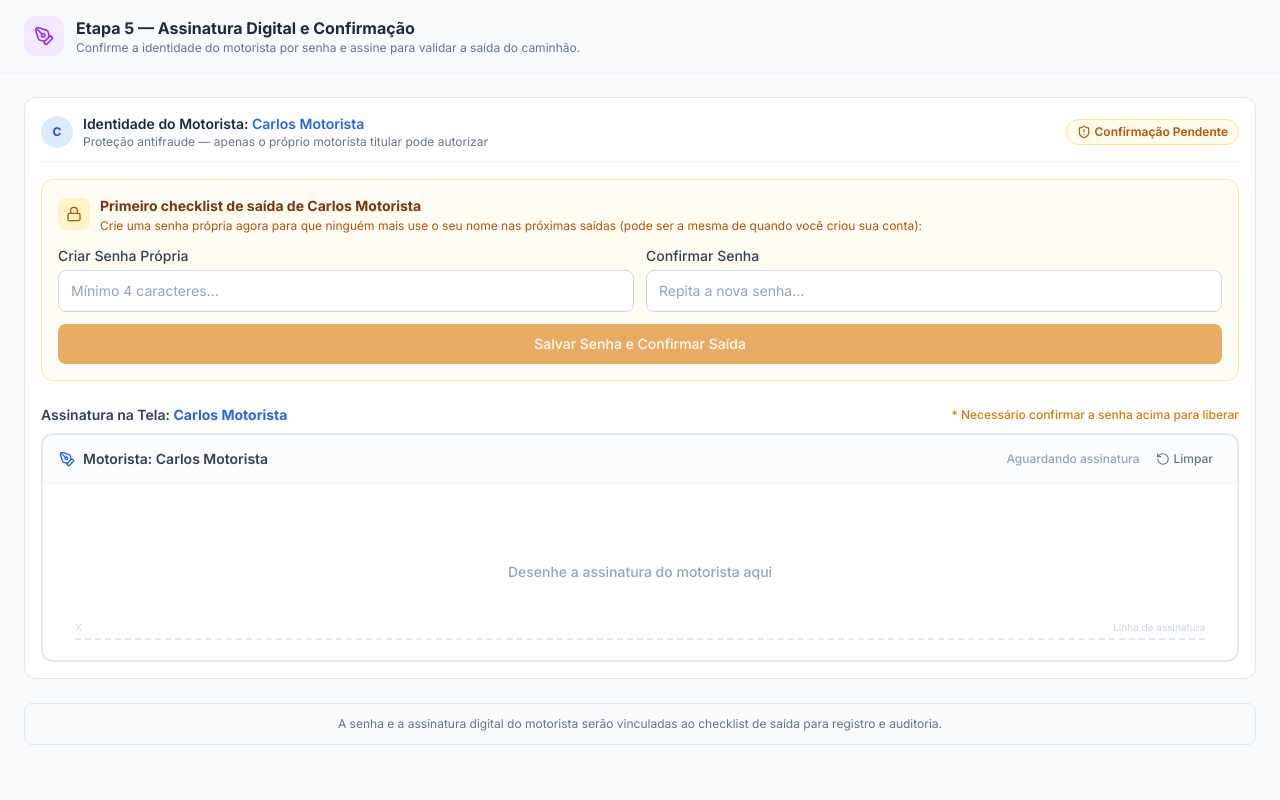
Test: Step10_Signature › allows creating password for first-time driver and confirms identity
Expected: the text "Primeiro checklist de saída de Carlos Motorista" is shown, [100,197,421,214]
Type "123456" into the password field labelled "Criar Senha Própria". click: (346, 291)
box: [58,270,634,312]
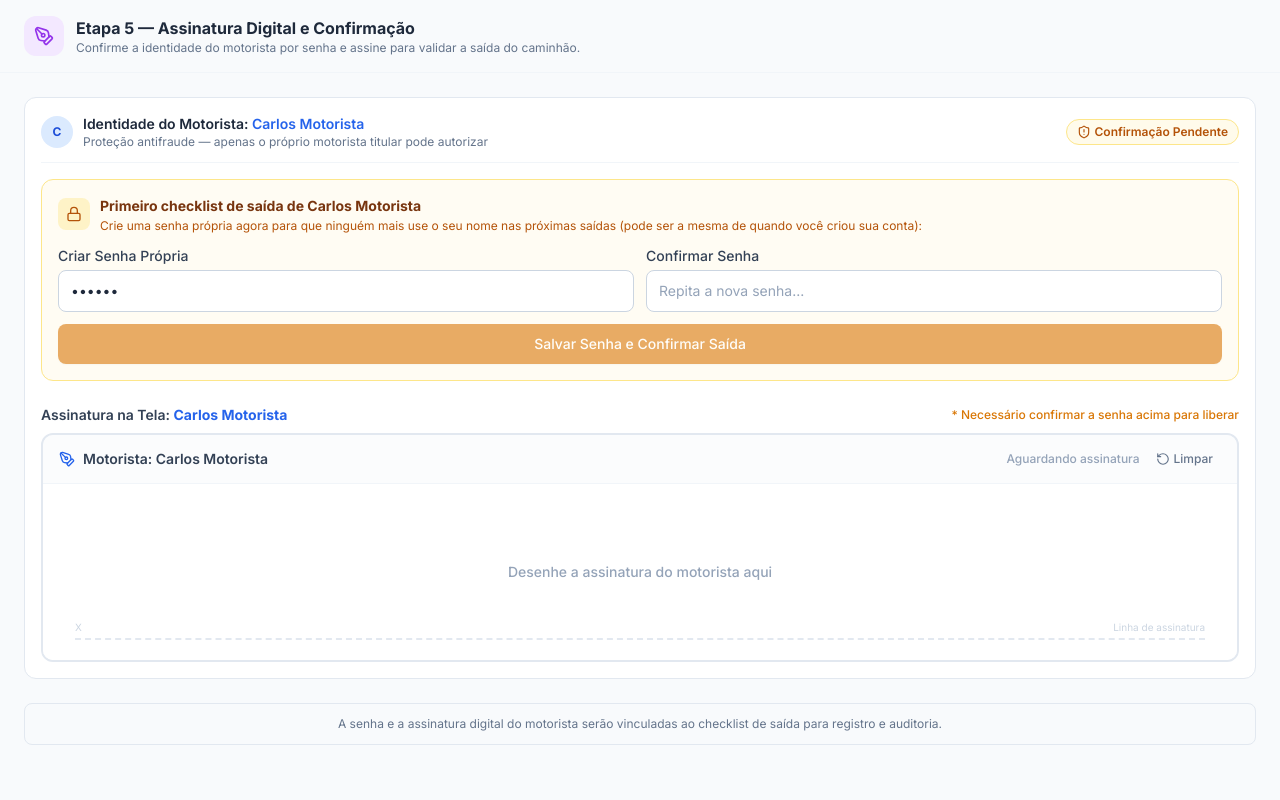
Type "123456" into the password field labelled "Confirmar Senha". click: (934, 291)
box: [646,270,1222,312]
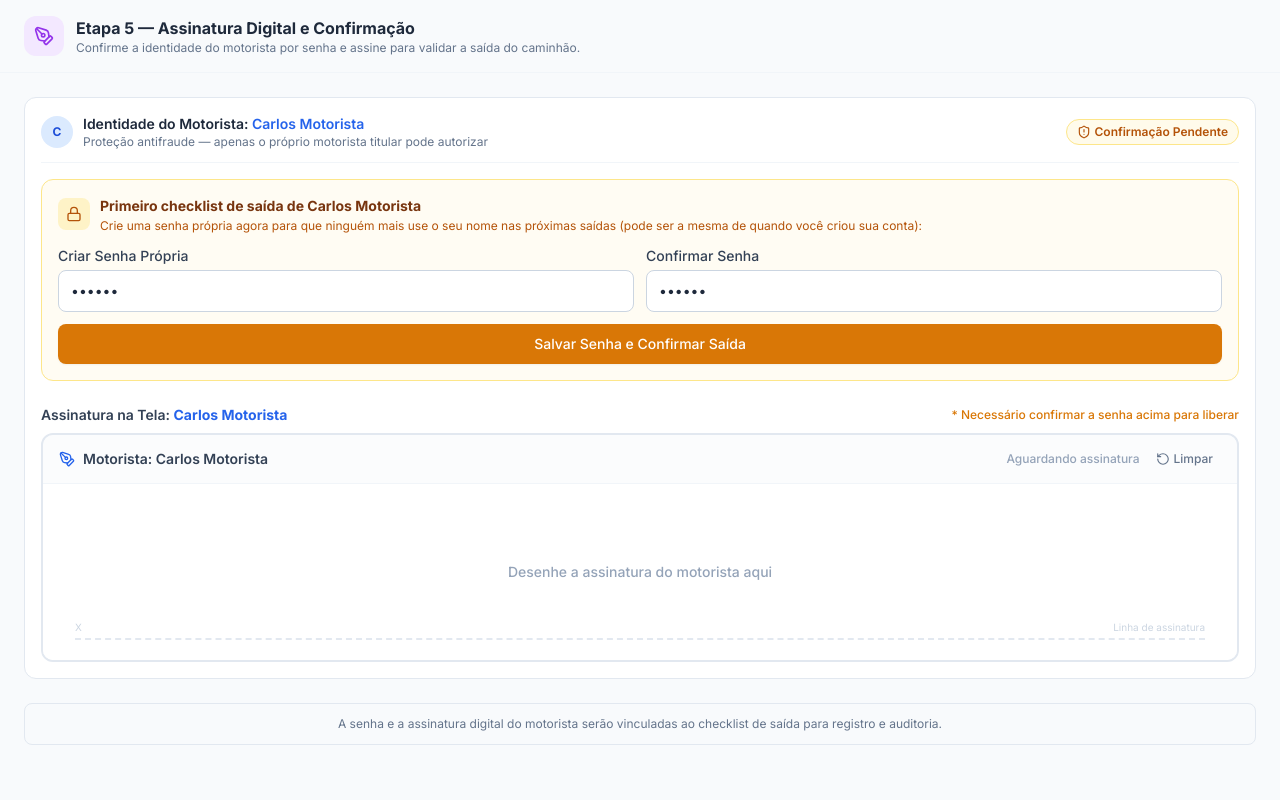
Click the button "Salvar Senha e Confirmar Saída". click: (640, 344)
box: [58,324,1222,364]
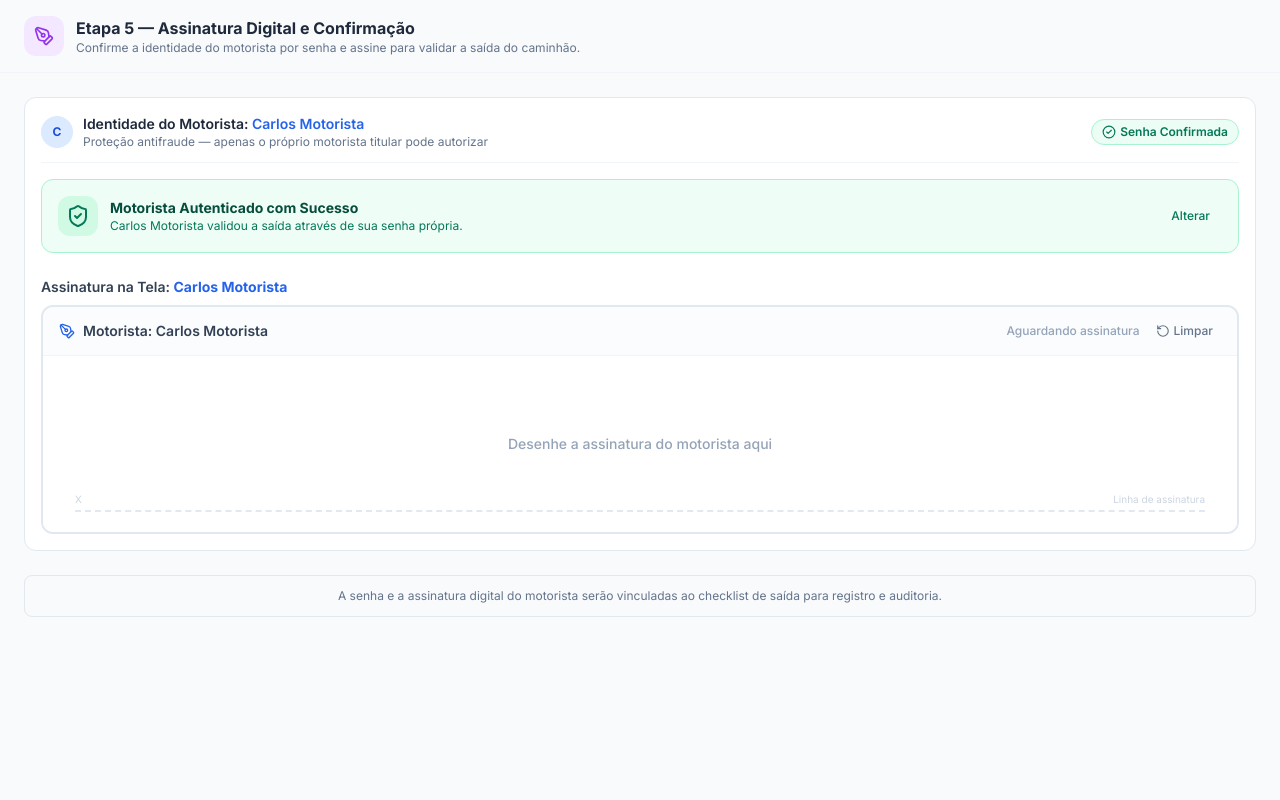
Now the text "Motorista Autenticado com Sucesso" is shown, box [110,199,358,216]
